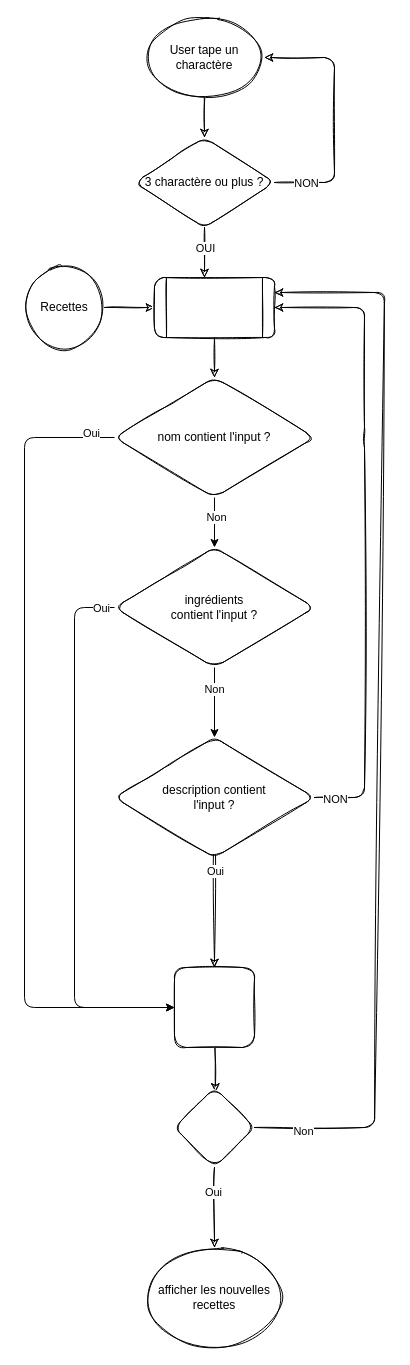
The diagram is 410 pixels wide and 1365 high, and some of its shapes have lost their labels. The centre of each missing label's shape, as x and y in pixels:
ajouter la recette dans nouvelle liste: pixel 214 1007
boucle: pixel 214 307
boucle fini ?: pixel 214 1127
